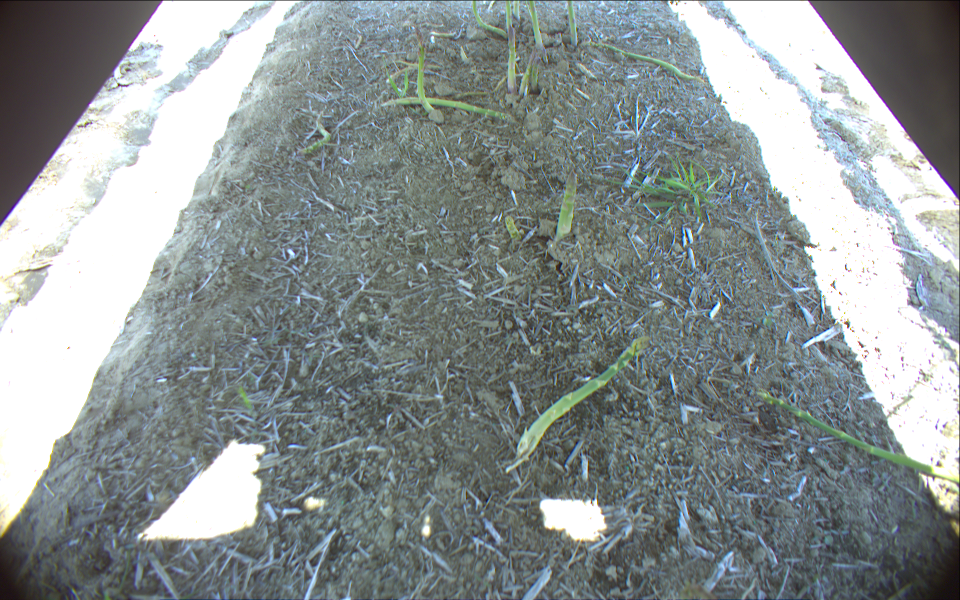aspa: (508, 335, 651, 476), (752, 391, 960, 483), (583, 42, 707, 85), (381, 97, 515, 126), (288, 122, 332, 159), (554, 170, 577, 240), (415, 40, 435, 120), (470, 1, 508, 40), (525, 1, 548, 64), (506, 1, 518, 92), (517, 48, 537, 100), (528, 1, 544, 51), (563, 1, 578, 47), (502, 214, 520, 243), (530, 56, 543, 94), (513, 1, 522, 21)
